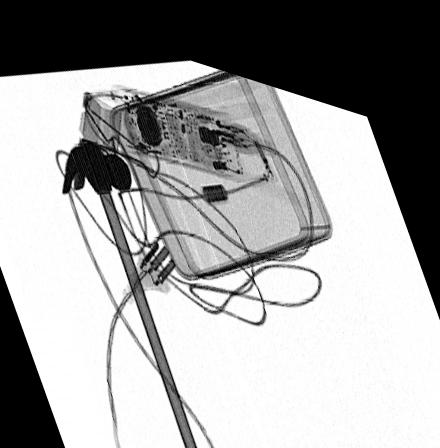Hammer: (61, 137, 201, 448)
